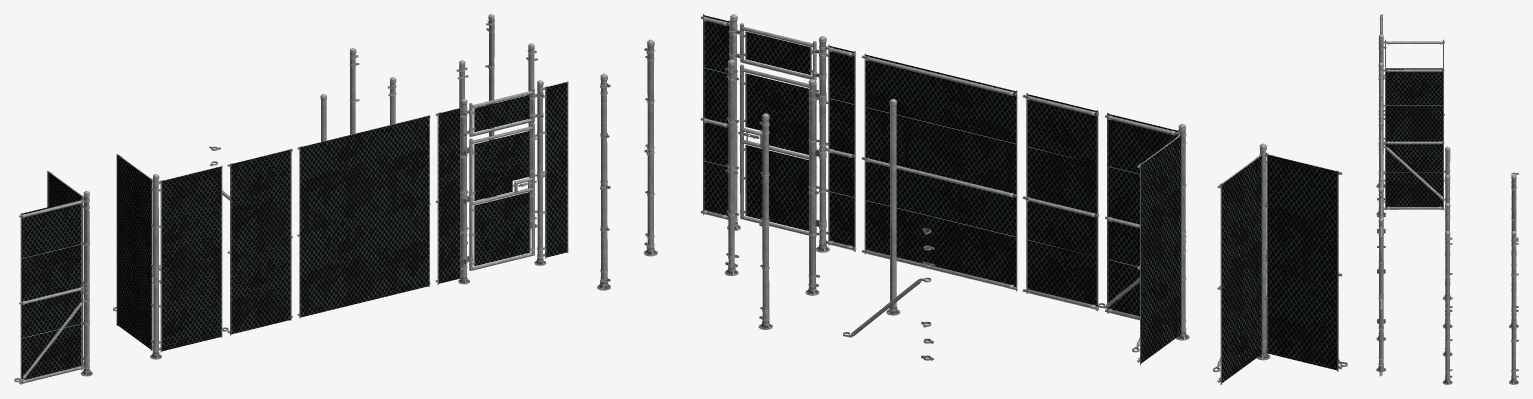
Rendered from modular_chainlink_fence.glb.
The picture shows the model from 3 angles, left to right: view 1: azimuth 30°, elevation 25°; view 2: azimuth 150°, elevation 25°; view 3: azimuth 270°, elevation 25°; orthographic projection. The views are drawn at different scales.
Visible parts, largest first — view 1: modular_chainlink_fence_double, modular_chainlink_fence_corner_outer, modular_chainlink_fence_door_frame, modular_chainlink_fence_corner_inner, modular_chainlink_fence, modular_chainlink_fence_door_gate, modular_chainlink_fence_start_01_corner_01, modular_chainlink_fence_start_01_corner_02, modular_chainlink_fence_end_02; view 2: modular_chainlink_fence_double, modular_chainlink_fence_corner_inner, modular_chainlink_fence_corner_outer, modular_chainlink_fence_door_frame, modular_chainlink_fence, modular_chainlink_fence_door_gate, modular_chainlink_post_middle, modular_chainlink_fence_end_01, modular_chainlink_fence_end_02, modular_chainlink_fence_start_01_corner_01, modular_chainlink_fence_start_01_corner_02, modular_chainlink_fence_post; view 3: modular_chainlink_fence_corner_outer, modular_chainlink_fence_door_frame, modular_chainlink_fence_start_01_corner_02, modular_chainlink_fence_start_01_corner_01, modular_chainlink_fence_corner_inner, modular_chainlink_fence_end_02, modular_chainlink_fence_double, modular_chainlink_fence_end_01, modular_chainlink_post_middle, modular_chainlink_fence_post.
Part boxes in pixels (x1,y1,x2,y2): modular_chainlink_fence_double: (297,115,430,318); modular_chainlink_fence_corner_outer: (113,154,228,359); modular_chainlink_fence_door_frame: (435,80,568,284); modular_chainlink_fence_corner_inner: (14,170,92,384); modular_chainlink_fence: (227,149,292,335); modular_chainlink_fence_door_gate: (469,123,535,270); modular_chainlink_fence_start_01_corner_01: (526,43,537,228); modular_chainlink_fence_start_01_corner_02: (485,14,496,198); modular_chainlink_fence_end_02: (349,48,359,134); modular_chainlink_fence_double: (861,53,1017,291); modular_chainlink_fence_corner_inner: (1213,143,1347,384); modular_chainlink_fence_corner_outer: (1098,112,1189,365); modular_chainlink_fence_door_frame: (700,14,856,252); modular_chainlink_fence: (1022,93,1098,310); modular_chainlink_fence_door_gate: (739,64,816,236); modular_chainlink_post_middle: (724,59,739,276); modular_chainlink_fence_end_01: (805,79,819,295); modular_chainlink_fence_end_02: (758,113,772,329); modular_chainlink_fence_start_01_corner_01: (644,39,657,256); modular_chainlink_fence_start_01_corner_02: (597,73,610,290); modular_chainlink_fence_post: (886,99,900,315); modular_chainlink_fence_corner_outer: (1376,62,1450,214); modular_chainlink_fence_door_frame: (1376,182,1386,377); modular_chainlink_fence_start_01_corner_02: (1509,231,1518,384); modular_chainlink_fence_start_01_corner_01: (1442,231,1452,384); modular_chainlink_fence_corner_inner: (1376,14,1450,188); modular_chainlink_fence_end_02: (1509,174,1518,328); modular_chainlink_fence_double: (1379,126,1382,183); modular_chainlink_fence_end_01: (1442,174,1452,328); modular_chainlink_post_middle: (1442,203,1452,356); modular_chainlink_fence_post: (1442,146,1452,300).
Size of the model in its own units: 8.12 by 2.52 by 2.15.
Materials: 2 (2 with a texture image).
